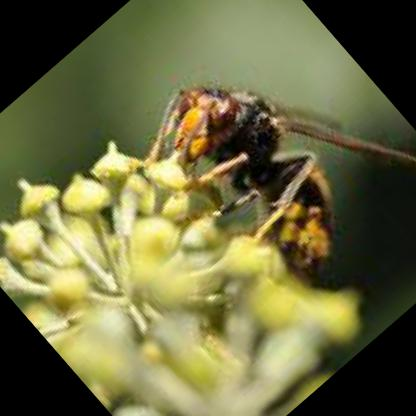asian: (114, 0, 415, 351)
